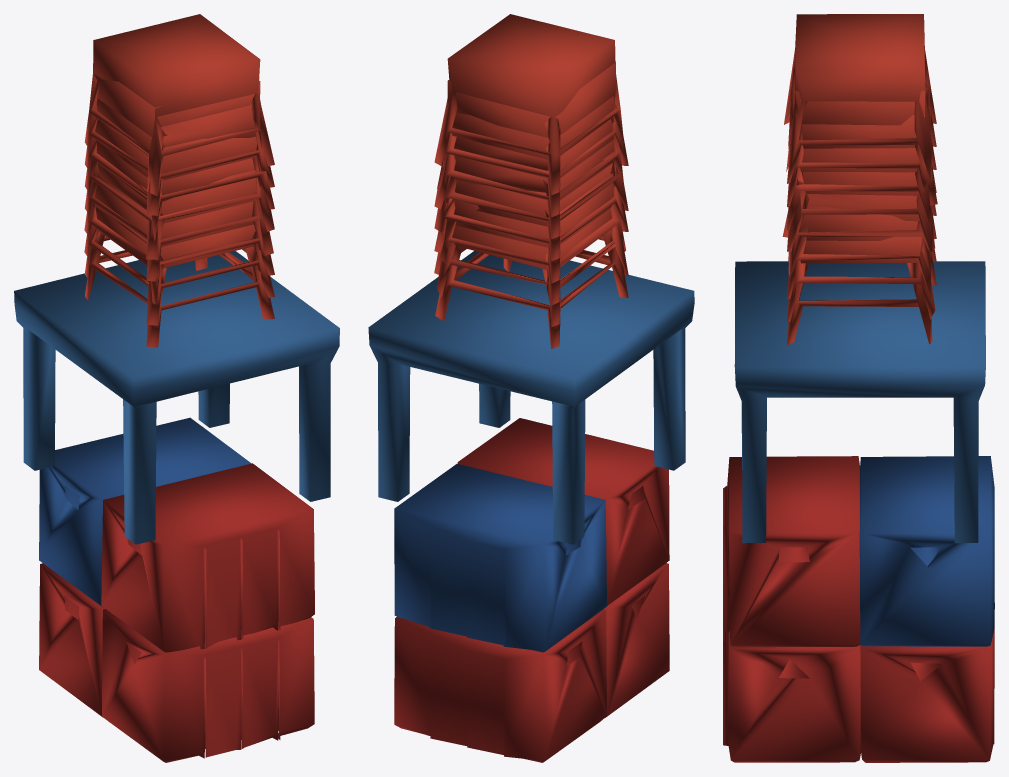
Rendered from bac_ghe_3.glb.
3 renders of one model, left to right at view 1: azimuth 30°, elevation 25°; view 2: azimuth 150°, elevation 25°; view 3: azimuth 270°, elevation 25°, orthographic. The views are drawn at different scales.
Parts seen in each view (by area): view 1: bac_ghe_3; view 2: bac_ghe_3; view 3: bac_ghe_3.
Part boxes in pixels (x1,y1,x2,y2): bac_ghe_3: [14, 14, 339, 762]; bac_ghe_3: [368, 14, 694, 762]; bac_ghe_3: [723, 14, 994, 762].
Bounding box in the file's own units: 0.5912 × 1.79 × 0.6407.
